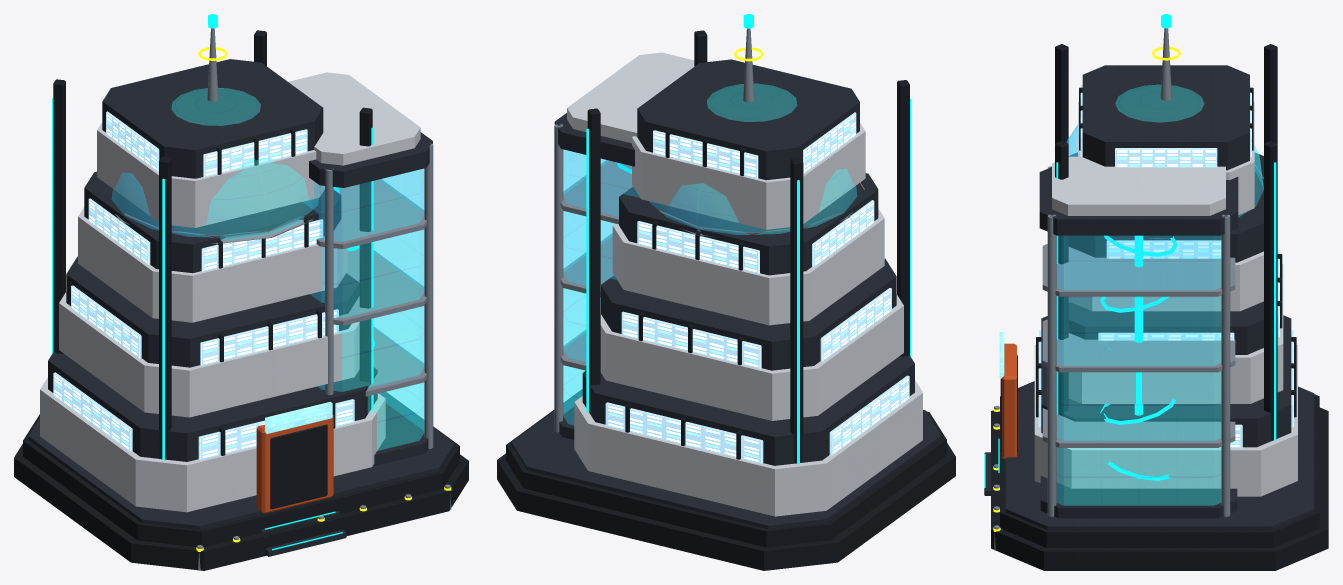
File: bldg_05_r1_04.glb
The picture shows the model from 3 angles, left to right: view 1: azimuth 30°, elevation 25°; view 2: azimuth 150°, elevation 25°; view 3: azimuth 270°, elevation 25°; orthographic projection. The views are drawn at different scales.
Visible parts, largest first — view 1: Bldg05_C04_aero_white, Bldg05_C04_carbon_slate, Bldg05_C04_gunmetal, Bldg05_C04_glass_cyan, Bldg05_C04_window_lit, Bldg05_C04_steel_machined, Bldg05_C04_led_cyan, Bldg05_C04_accent_orange, Bldg05_C04_marquee; view 2: Bldg05_C04_aero_white, Bldg05_C04_carbon_slate, Bldg05_C04_gunmetal, Bldg05_C04_window_lit, Bldg05_C04_glass_cyan, Bldg05_C04_steel_machined, Bldg05_C04_led_cyan; view 3: Bldg05_C04_carbon_slate, Bldg05_C04_glass_cyan, Bldg05_C04_aero_white, Bldg05_C04_gunmetal, Bldg05_C04_steel_machined, Bldg05_C04_window_lit, Bldg05_C04_led_cyan, Bldg05_C04_accent_orange.
Part boxes in pixels (box(x1,y1,x2,y2)): Bldg05_C04_aero_white: box(40, 72, 420, 512); Bldg05_C04_carbon_slate: box(28, 59, 454, 556); Bldg05_C04_gunmetal: box(14, 30, 468, 570); Bldg05_C04_glass_cyan: box(112, 88, 424, 450); Bldg05_C04_window_lit: box(53, 111, 354, 459); Bldg05_C04_steel_machined: box(104, 28, 451, 570); Bldg05_C04_led_cyan: box(52, 14, 374, 550); Bldg05_C04_accent_orange: box(256, 415, 333, 513); Bldg05_C04_marquee: box(265, 401, 332, 433); Bldg05_C04_aero_white: box(567, 52, 922, 516); Bldg05_C04_carbon_slate: box(511, 59, 941, 529); Bldg05_C04_gunmetal: box(497, 30, 955, 570); Bldg05_C04_window_lit: box(605, 112, 909, 463); Bldg05_C04_glass_cyan: box(563, 83, 856, 424); Bldg05_C04_steel_machined: box(554, 28, 864, 432); Bldg05_C04_led_cyan: box(586, 14, 910, 464); Bldg05_C04_carbon_slate: box(984, 65, 1314, 529); Bldg05_C04_glass_cyan: box(1057, 84, 1263, 505); Bldg05_C04_aero_white: box(1034, 102, 1297, 496); Bldg05_C04_gunmetal: box(991, 44, 1328, 570); Bldg05_C04_steel_machined: box(993, 28, 1263, 550); Bldg05_C04_window_lit: box(1038, 85, 1293, 448); Bldg05_C04_led_cyan: box(984, 14, 1276, 488); Bldg05_C04_accent_orange: box(1001, 343, 1016, 458).
Size of the model in its own units: 12 by 15.82 by 10.71.
11 materials, 11 textured.
